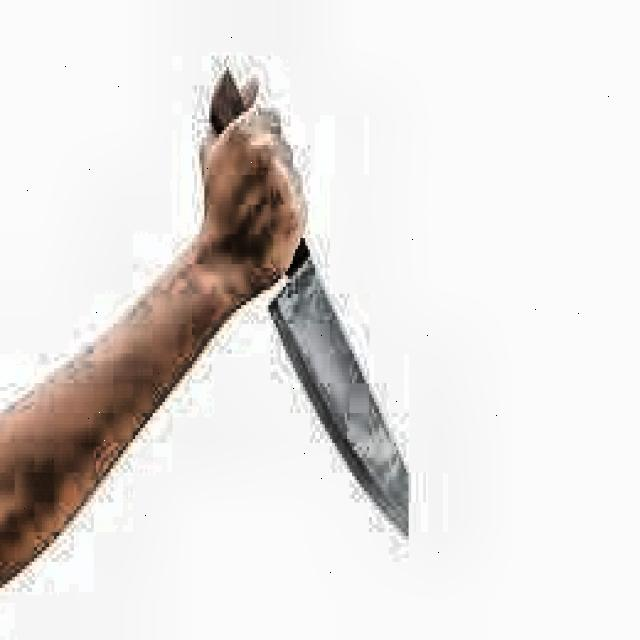knife: (211, 68, 412, 541)
